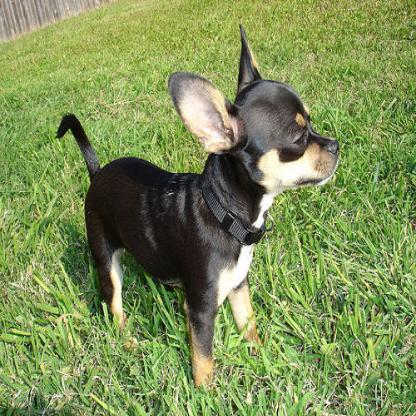dog: (54, 22, 340, 386)
